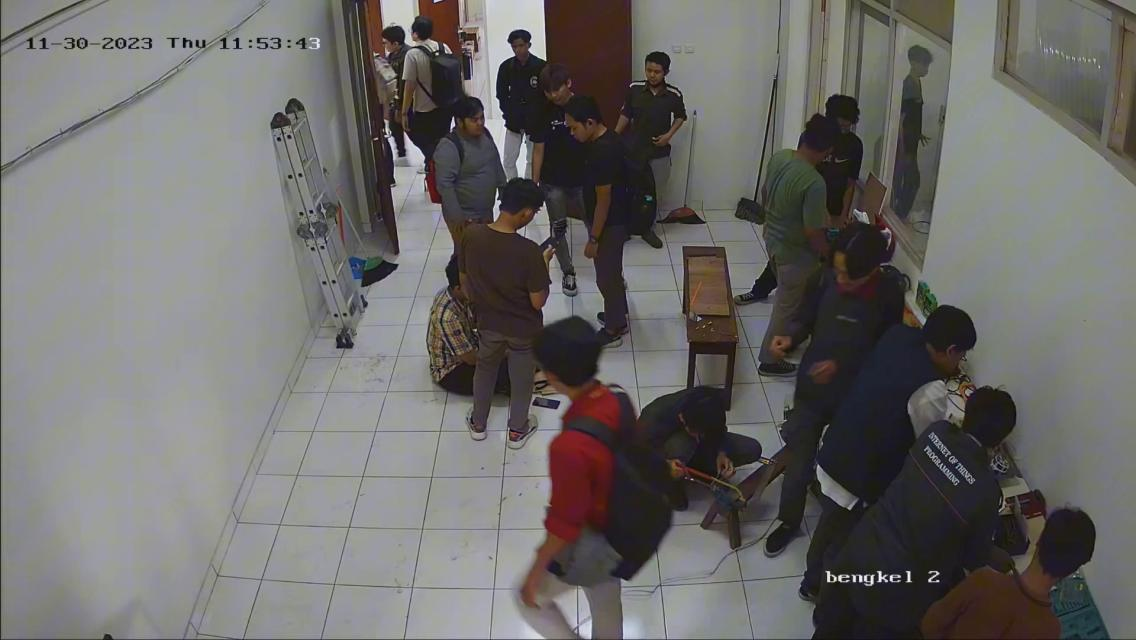Crowd: (370, 16, 712, 430)
